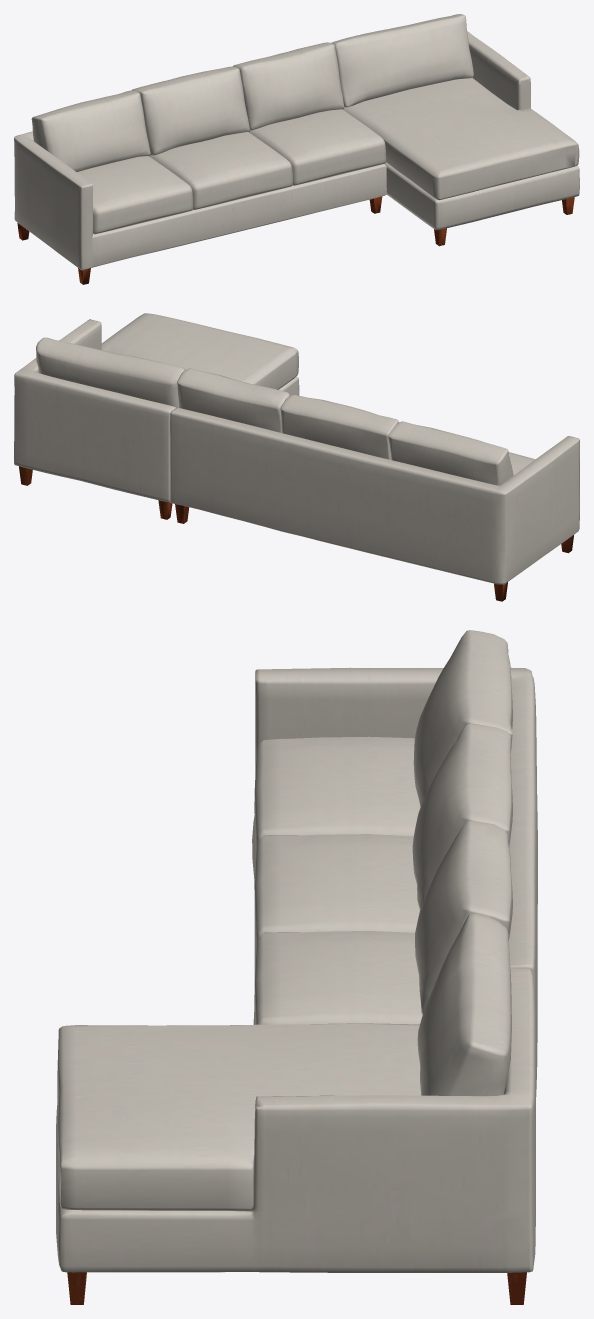
File: sectional_abo_B07B4GVQ57.glb
3 views of the same model, one above another, from view 1: azimuth 30°, elevation 25°; view 2: azimuth 150°, elevation 25°; view 3: azimuth 270°, elevation 25° (orthographic). The views are drawn at different scales.
Parts seen in each view (by area): view 1: RootNode; view 2: RootNode; view 3: RootNode.
Boxes of the visible parts, x1,y1,x2,y2 form: RootNode: (14, 14, 579, 284); RootNode: (14, 313, 579, 601); RootNode: (56, 630, 537, 1304).
Bounding box in the file's own units: 3.47 × 0.9538 × 1.6.
Materials: 1 (1 with a texture image).
